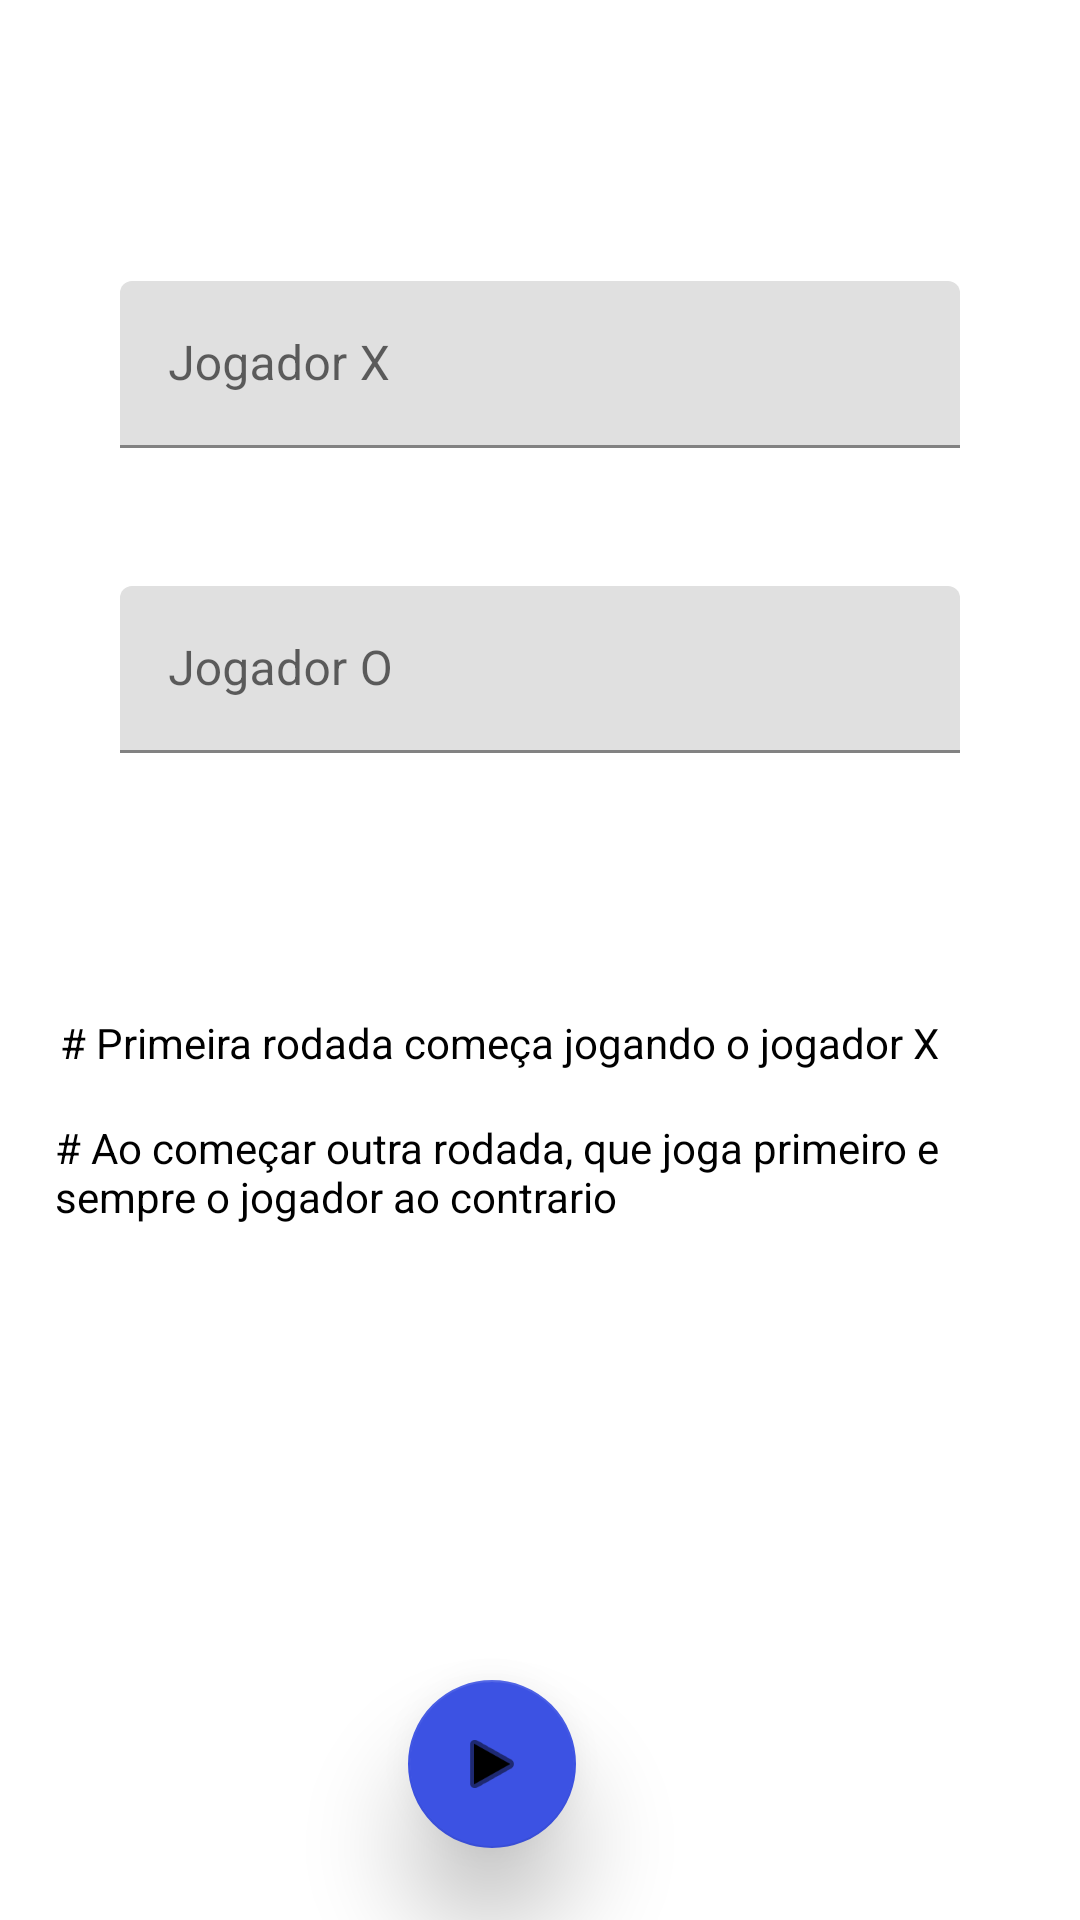

Icons on this 1080px x 1920px Android screen, each with its box as rect(x1, y1, x2, y2):
play: rect(408, 1680, 576, 1848)
